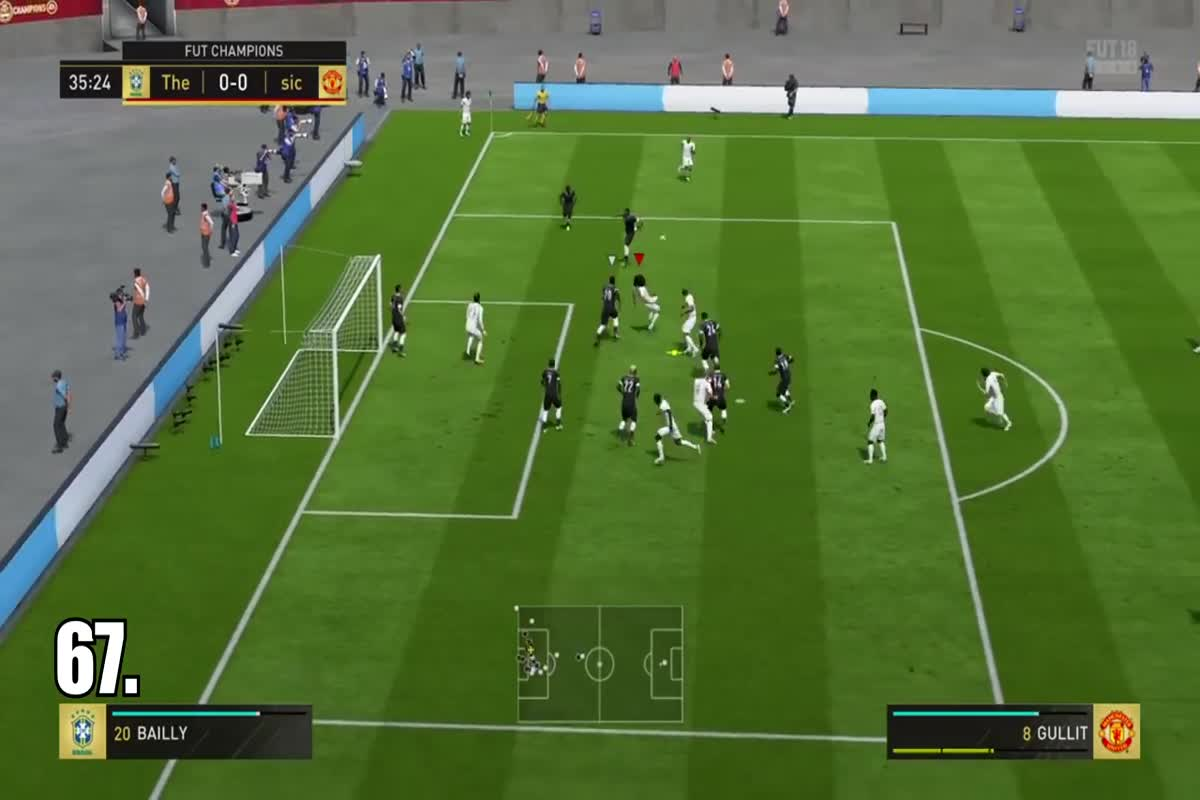ball: (654, 229, 677, 247)
